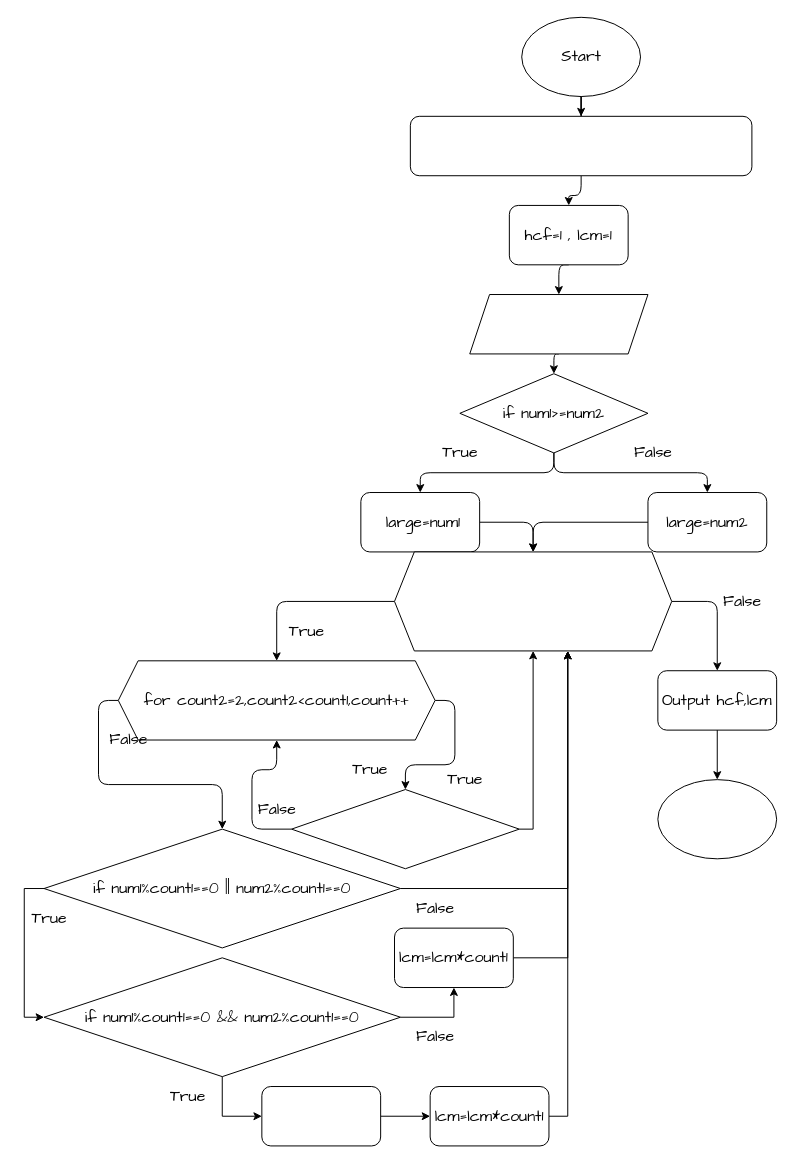
Image size: 794x1163. Some labels were removed from this diagram. Here are the shapes that lost their labels. From the top down, the centre of each, then its label:
At point (580, 145): "int num1,num2,hcf,lcm,large,count1,count2".
At point (558, 324): "input num1,num2".
At point (533, 601): "for count1=2,count1<=large,count1++".
At point (405, 829): "if count1%count2==0".
At point (717, 819): "End".
At point (321, 1116): "hcf=hcf*count1".
